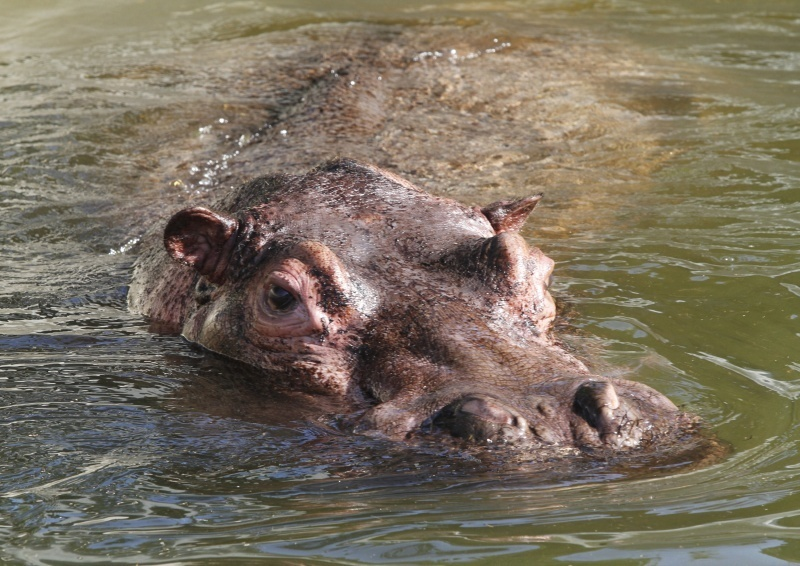hipopotamo: (130, 154, 692, 474)
